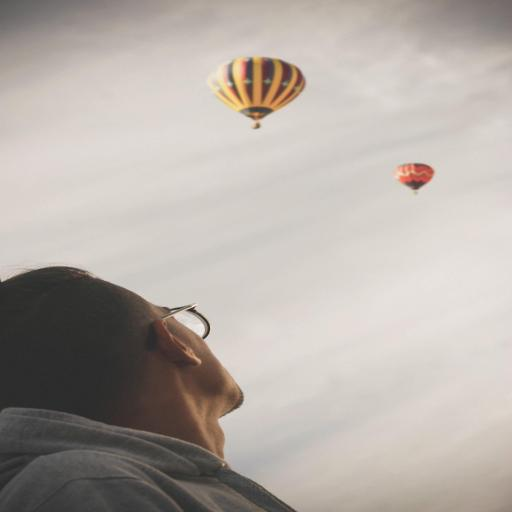hot air ballon: (207, 57, 306, 128), (392, 163, 435, 194)
